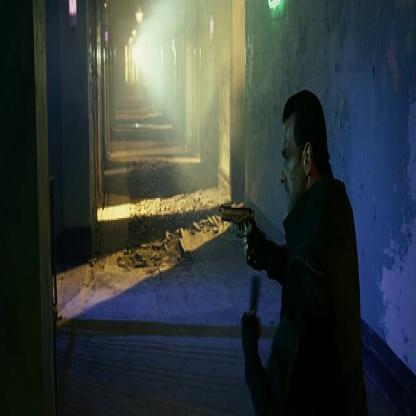Guns: (217, 198, 254, 257)
